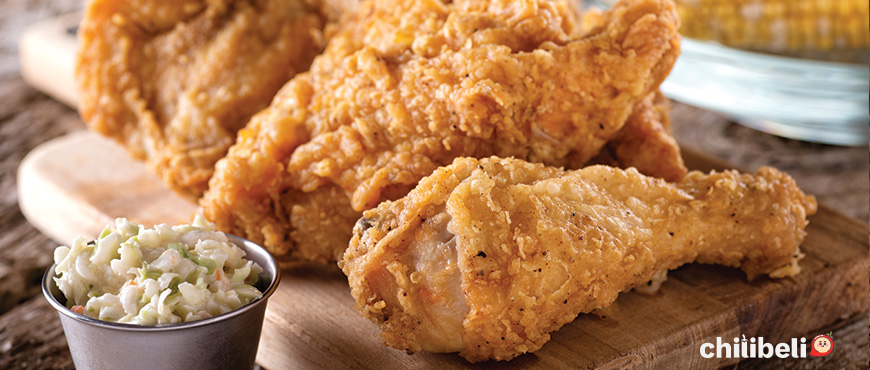Ayam: (255, 1, 694, 260), (320, 162, 830, 345), (67, 4, 298, 203)
